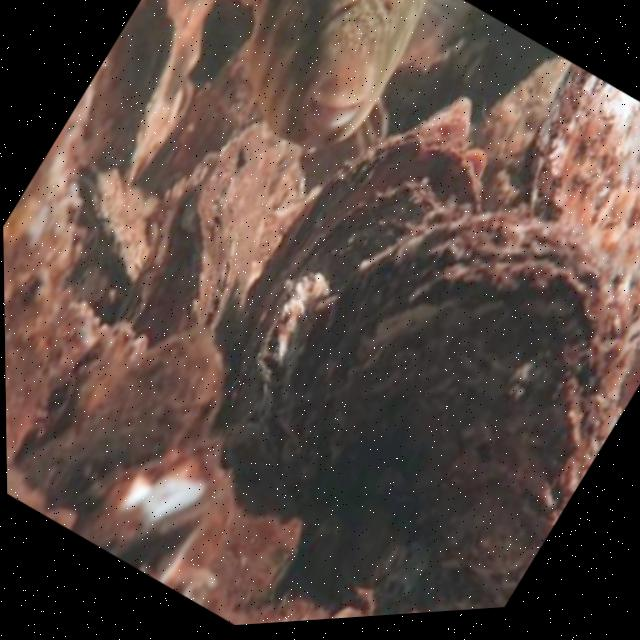Oyster-Closed: (78, 162, 153, 284)
Oyster-Indeterminate: (264, 205, 623, 583), (525, 62, 640, 382), (181, 123, 268, 342), (73, 333, 221, 454), (475, 60, 563, 171), (414, 97, 472, 148)
Oyster-Open: (234, 132, 484, 414)
